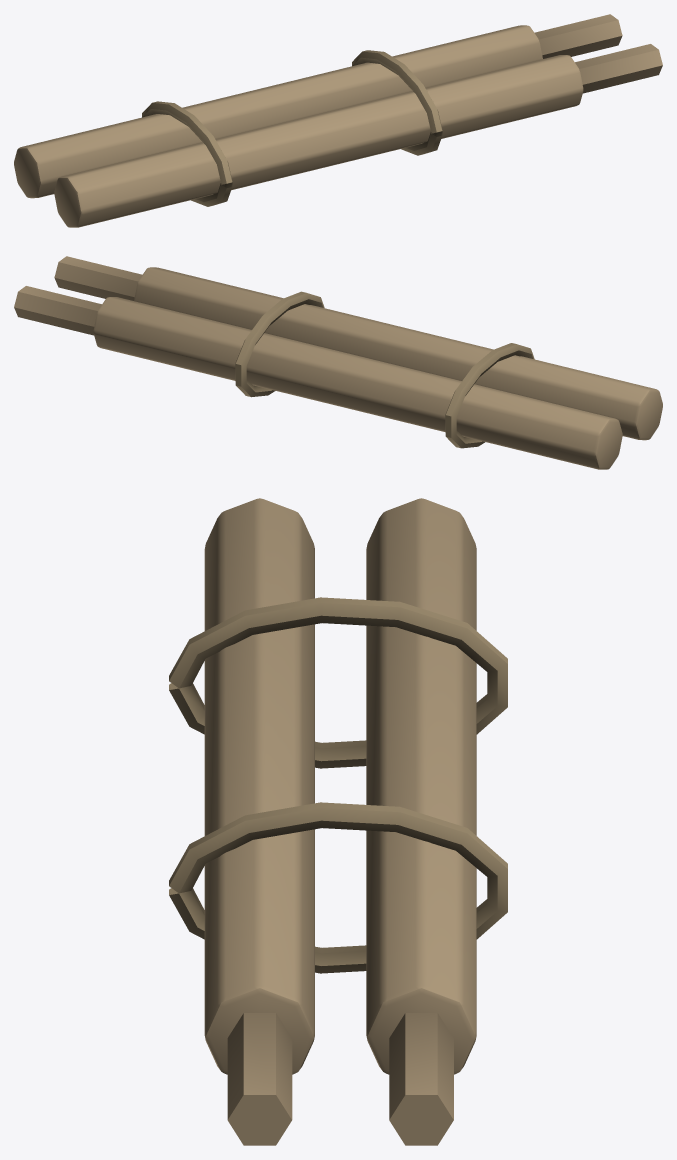
The model's file is stakes.glb.
The picture shows the model from 3 angles, top to bottom: view 1: azimuth 30°, elevation 25°; view 2: azimuth 150°, elevation 25°; view 3: azimuth 270°, elevation 25°; orthographic projection. The views are drawn at different scales.
Visible parts, largest first — view 1: boat_stake, boat_rope; view 2: boat_stake, boat_rope; view 3: boat_stake, boat_rope.
Part boxes in pixels (box(x1,y1,x2,y2)): boat_stake: box(14, 14, 662, 227); boat_rope: box(142, 50, 442, 206); boat_stake: box(14, 256, 662, 469); boat_rope: box(235, 291, 534, 448); boat_stake: box(204, 498, 476, 1145); boat_rope: box(169, 597, 507, 973).
Size of the model in its own units: 0.84 by 0.1131 by 0.2097.
